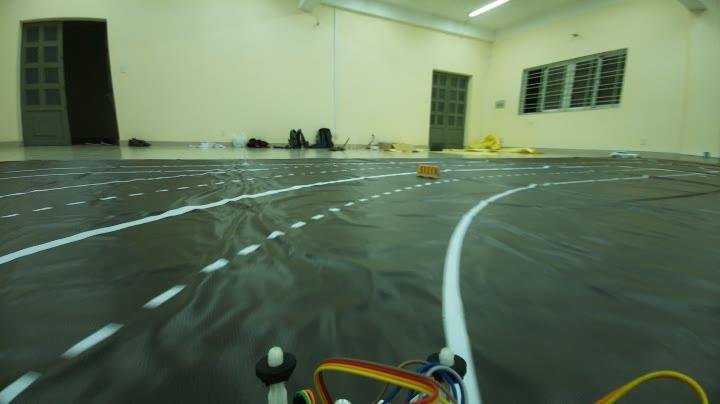roadblock: (412, 162, 442, 178)
